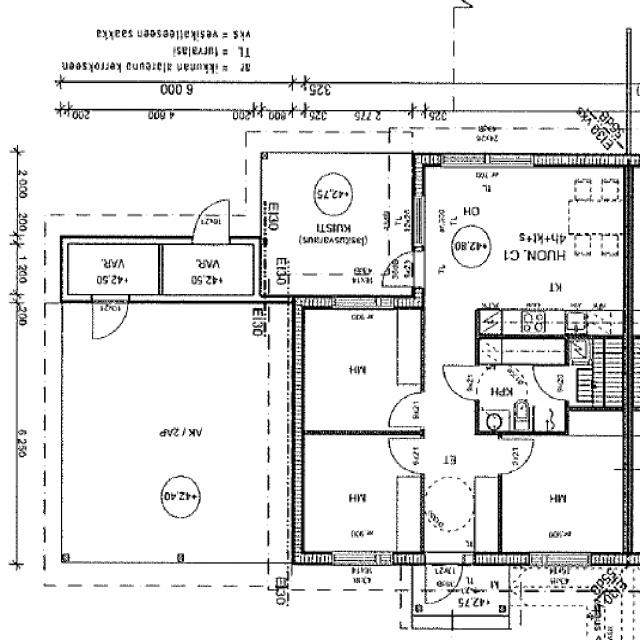door: (427, 552, 463, 605), (378, 250, 426, 287), (193, 197, 230, 244), (93, 296, 129, 342), (388, 438, 426, 474), (388, 392, 426, 427), (534, 366, 570, 401), (498, 439, 535, 473), (444, 366, 480, 400)
